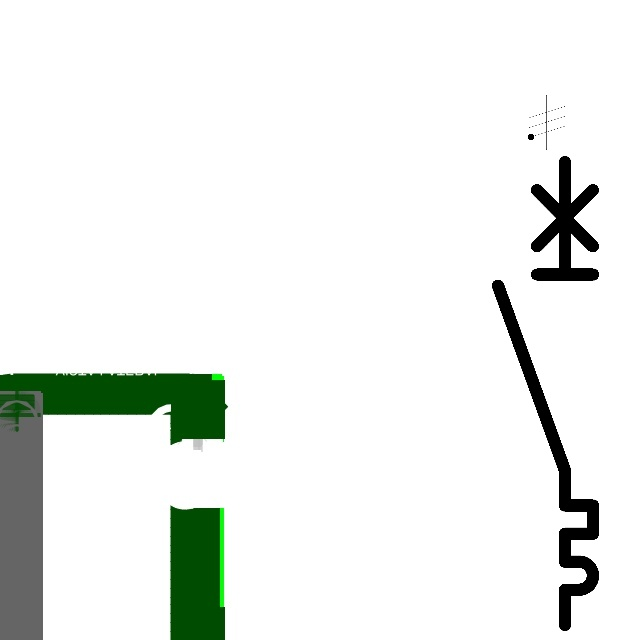interruptor_termomagnetico: (486, 150, 605, 637)
